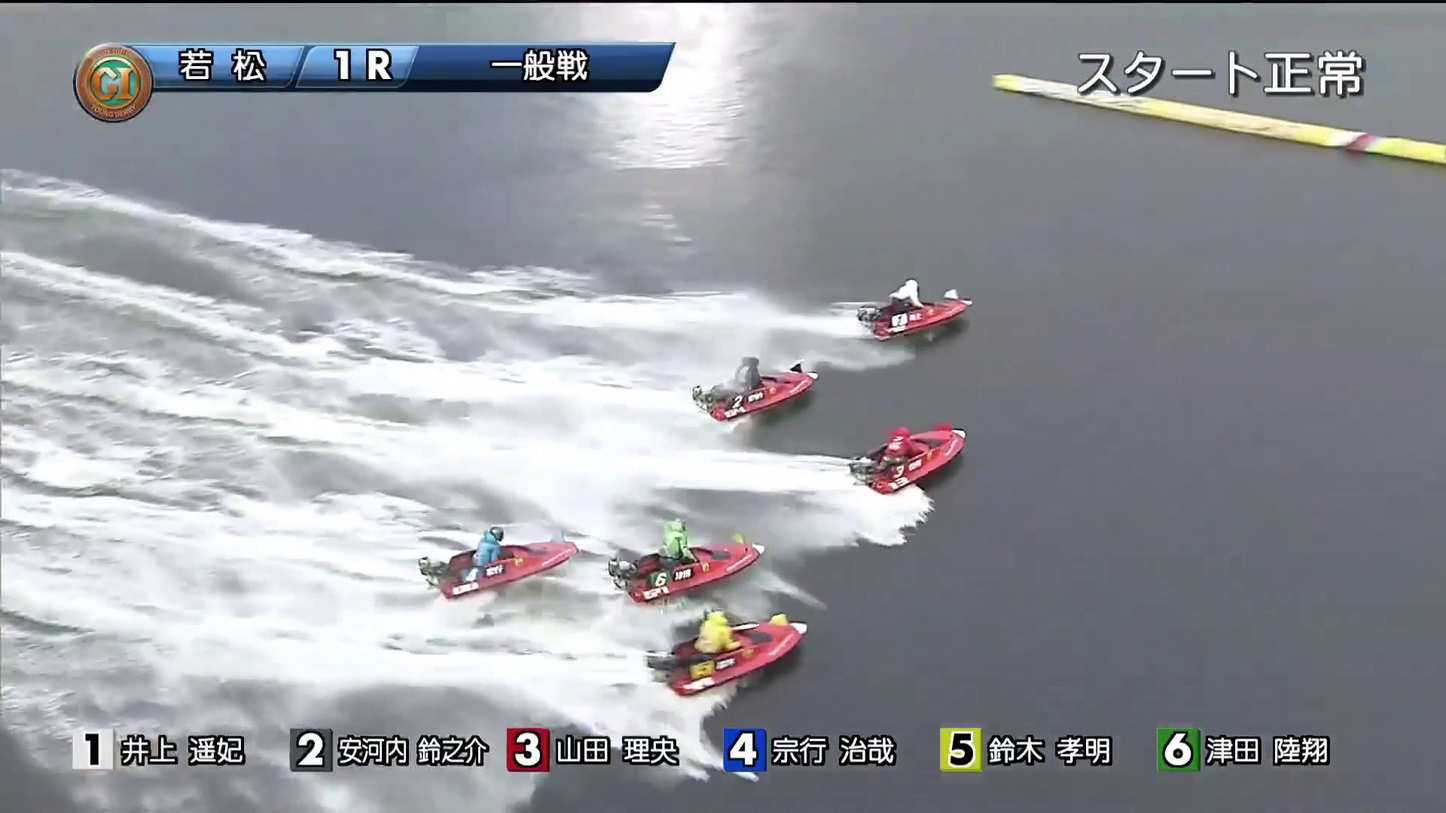１号艇: (879, 282, 1016, 336)
２号艇: (688, 353, 817, 414)
３号艇: (858, 436, 998, 482)
４号艇: (629, 526, 753, 592)
５号艇: (420, 538, 544, 593)
６号艇: (682, 625, 781, 681)
